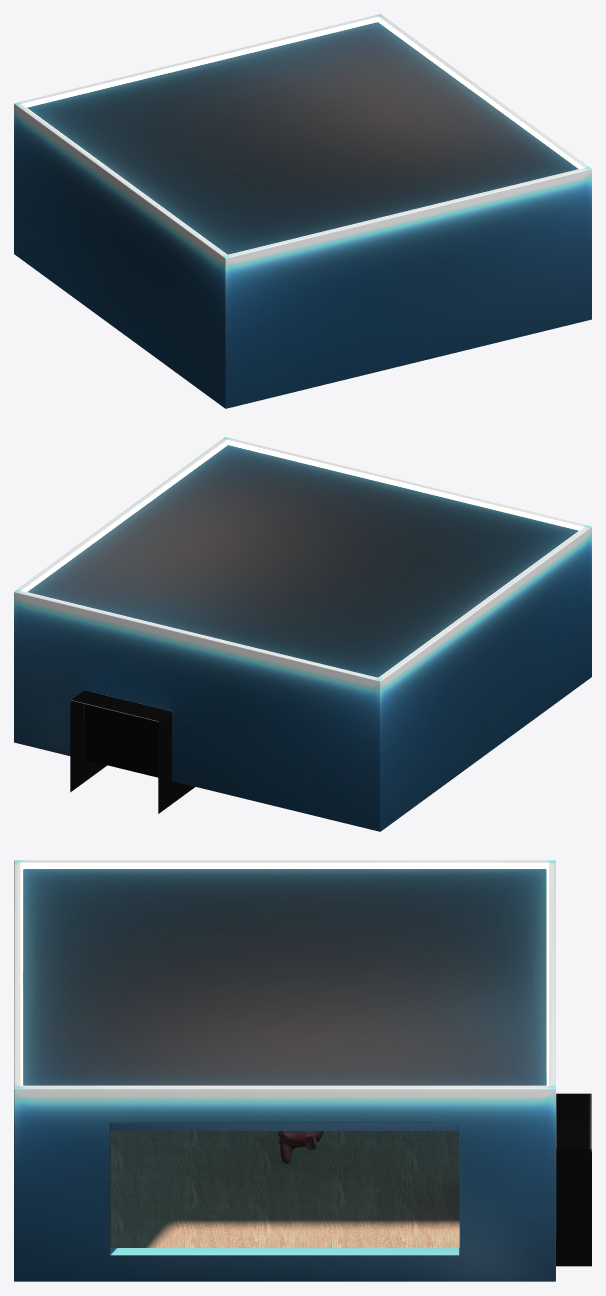
File: bakeTest.glb
3 renders of one model, top to bottom at view 1: azimuth 30°, elevation 25°; view 2: azimuth 150°, elevation 25°; view 3: azimuth 270°, elevation 25°, orthographic. The views are drawn at different scales.
Parts seen in each view (by area): view 1: Cube_Baked; view 2: Cube_Baked; view 3: Cube_Baked.
Boxes of the visible parts, x1,y1,x2,y2 form: Cube_Baked: (14, 14, 591, 408); Cube_Baked: (14, 437, 591, 831); Cube_Baked: (14, 860, 591, 1281).
Bounding box in the file's own units: 19.56 × 8.54 × 20.18.
1 material, 1 textured.
